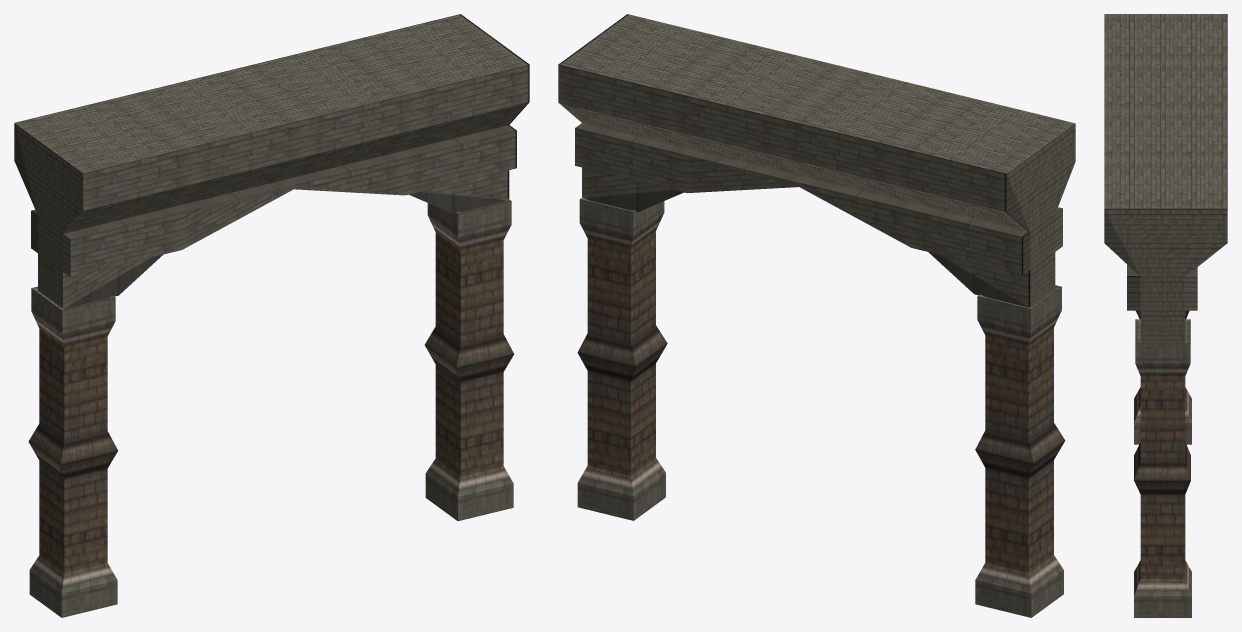
The model's file is cosmic_arch.fbx.
3 views of the same model, side by side, from view 1: azimuth 30°, elevation 25°; view 2: azimuth 150°, elevation 25°; view 3: azimuth 270°, elevation 25° (orthographic). The views are drawn at different scales.
Visible parts, largest first — view 1: Cube; view 2: Cube; view 3: Cube.
Part boxes in pixels (<box>): Cube: <box>14,14,529,617</box>; Cube: <box>558,14,1075,617</box>; Cube: <box>1104,14,1227,617</box>.
Bounding box in the file's own units: 1261 × 1209 × 332.
2 materials, 2 textured.
